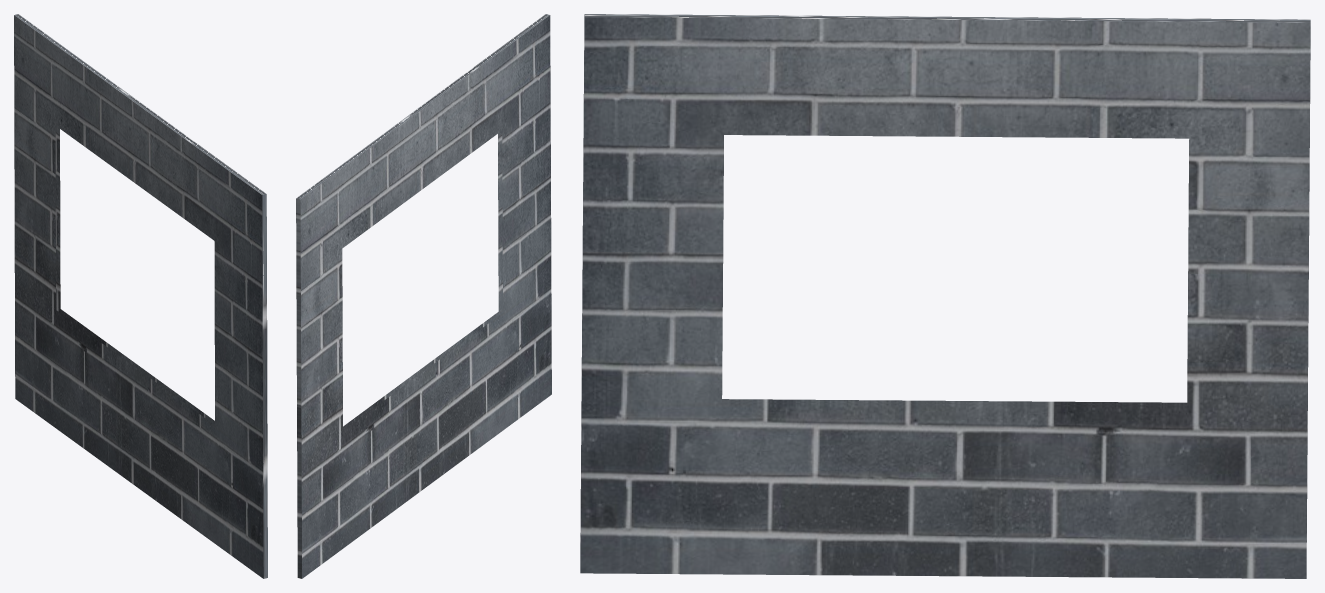
The model's file is ladrillosGVentana.obj.
3 views of the same model, side by side, from view 1: azimuth 30°, elevation 25°; view 2: azimuth 150°, elevation 25°; view 3: azimuth 270°, elevation 25° (orthographic). The views are drawn at different scales.
Parts seen in each view (by area): view 1: pCube9; view 2: pCube9; view 3: pCube9.
Boxes of the visible parts, box(x1,y1,x2,y2) form: pCube9: box(14, 14, 267, 578); pCube9: box(296, 14, 551, 578); pCube9: box(580, 14, 1310, 578).
Bounding box in the file's own units: 0.1731 × 10.34 × 12.21.
Materials: 1 (1 with a texture image).
